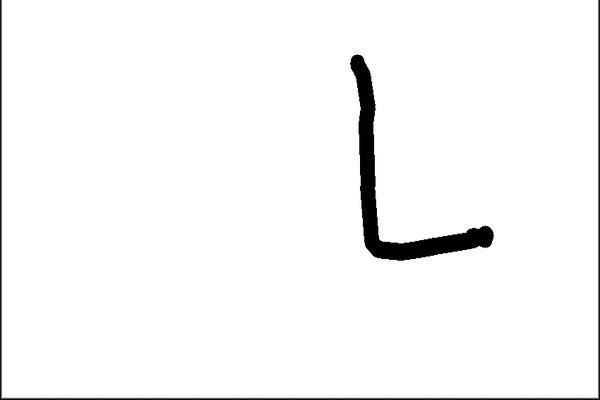L: (340, 44, 498, 263)
